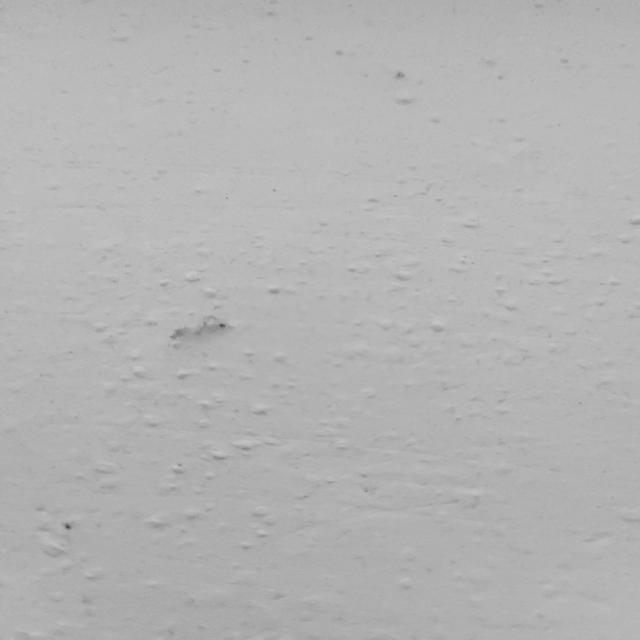rough and patchy surface: (10, 7, 628, 640)
